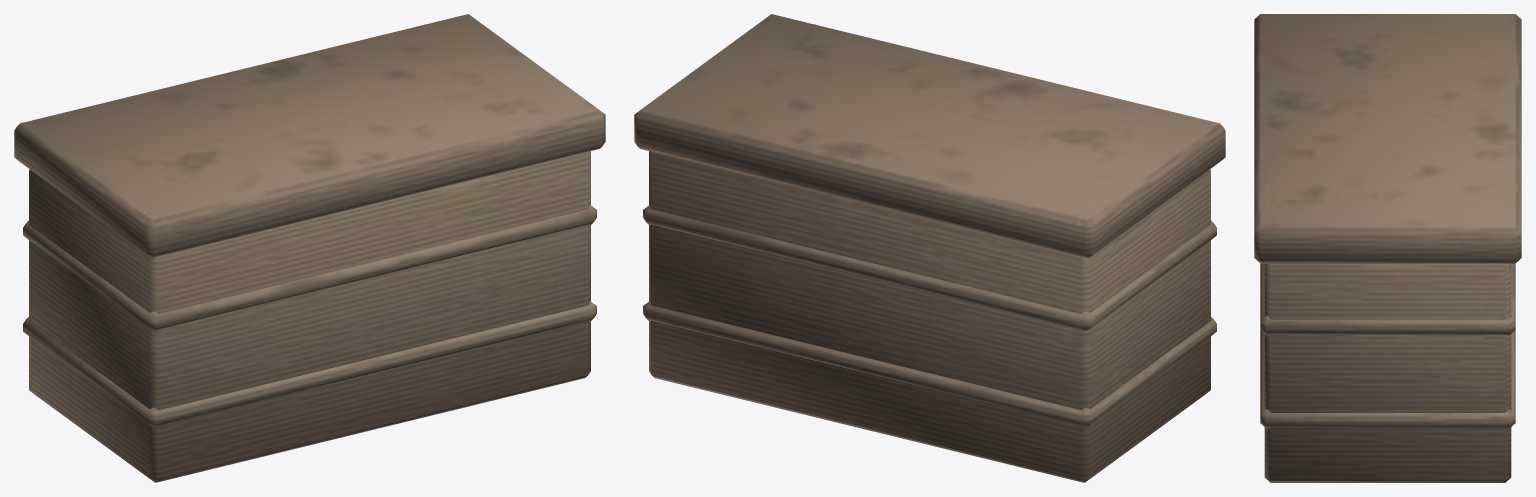
The model's file is wooden-chest-large.glb.
The picture shows the model from 3 angles, left to right: view 1: azimuth 30°, elevation 25°; view 2: azimuth 150°, elevation 25°; view 3: azimuth 270°, elevation 25°; orthographic projection. The views are drawn at different scales.
Visible parts, largest first — view 1: wooden_chest_large; view 2: wooden_chest_large; view 3: wooden_chest_large.
Part boxes in pixels (x1,y1,x2,y2): wooden_chest_large: (14, 14, 605, 482); wooden_chest_large: (634, 14, 1225, 482); wooden_chest_large: (1254, 14, 1521, 482).
Bounding box in the file's own units: 1.25 × 0.7 × 0.65.
Materials: 1 (1 with a texture image).
